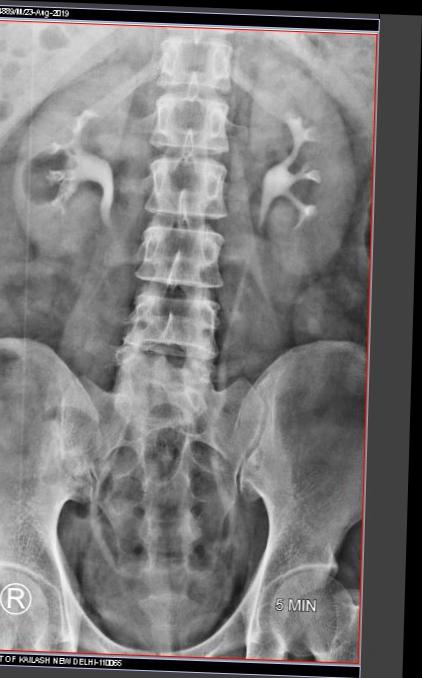left kidney: (283, 65, 409, 280)
right kidney: (14, 68, 143, 277)
vertebrae: (176, 83, 259, 150)
